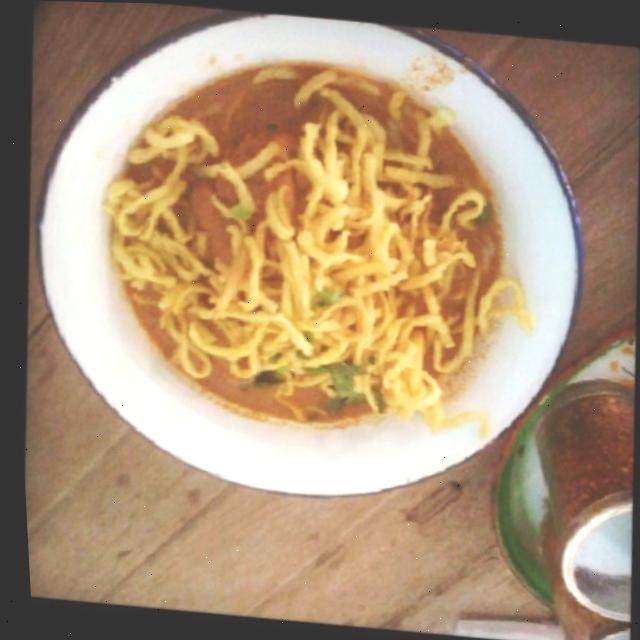面条主食: (45, 20, 571, 474)
